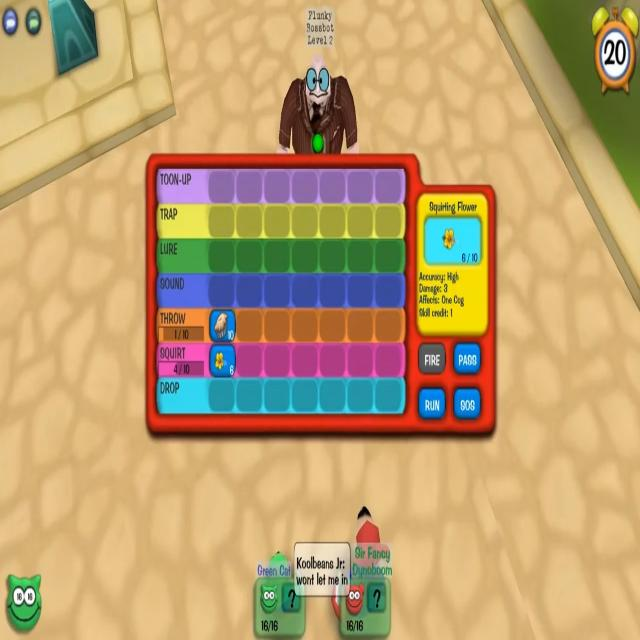flunky: (276, 5, 360, 160)
